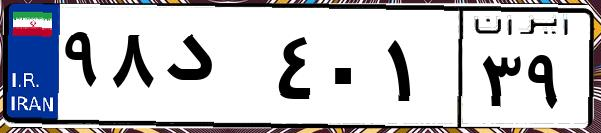0: (330, 28, 385, 110)
1: (385, 28, 445, 110)
3: (475, 38, 525, 113)
4: (270, 28, 330, 110)
8: (110, 28, 158, 98)
9: (57, 26, 110, 100), (525, 38, 570, 115)
د: (158, 20, 270, 120)
